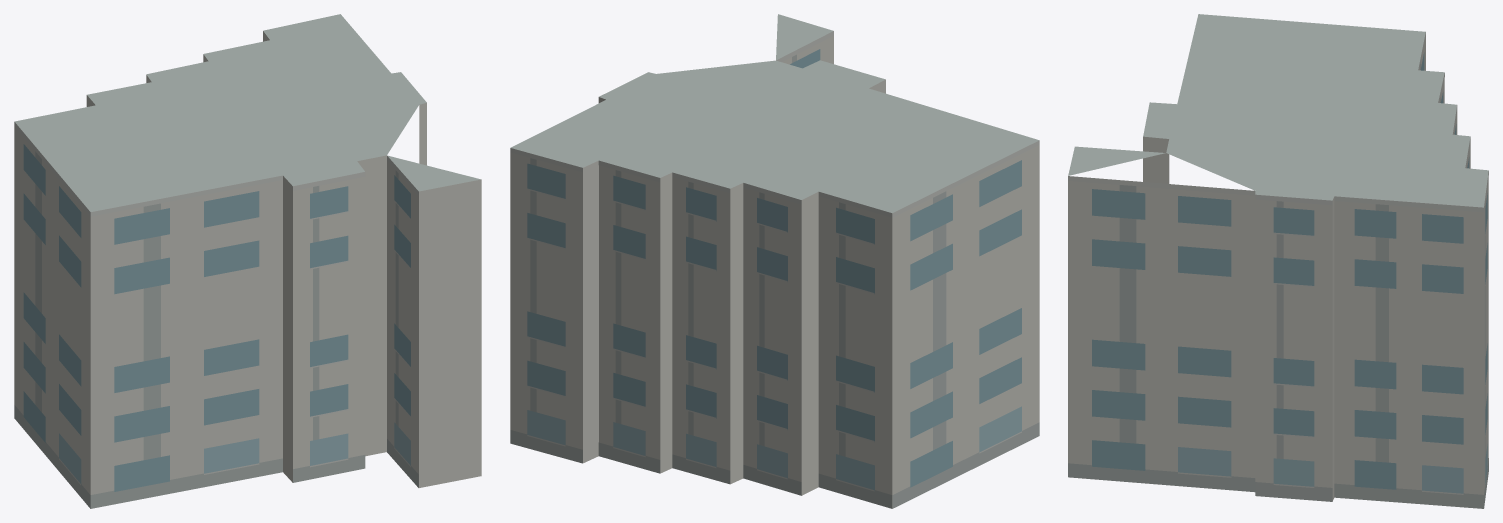
Rendered from survey-upis-32674382.glb.
3 renders of one model, left to right at view 1: azimuth 30°, elevation 25°; view 2: azimuth 150°, elevation 25°; view 3: azimuth 270°, elevation 25°, orthographic.
Parts seen in each view (by area): view 1: survey-upis-32674382.tmp; view 2: survey-upis-32674382.tmp; view 3: survey-upis-32674382.tmp.
Part boxes in pixels (x1,y1,x2,y2): survey-upis-32674382.tmp: (14,14,481,508); survey-upis-32674382.tmp: (510,14,1039,508); survey-upis-32674382.tmp: (1068,14,1488,508).
Bounding box in the file's own units: 21.31 × 15.46 × 19.57.
